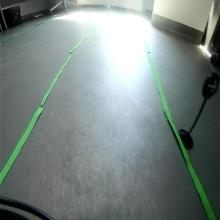right: (202, 71, 220, 100)
